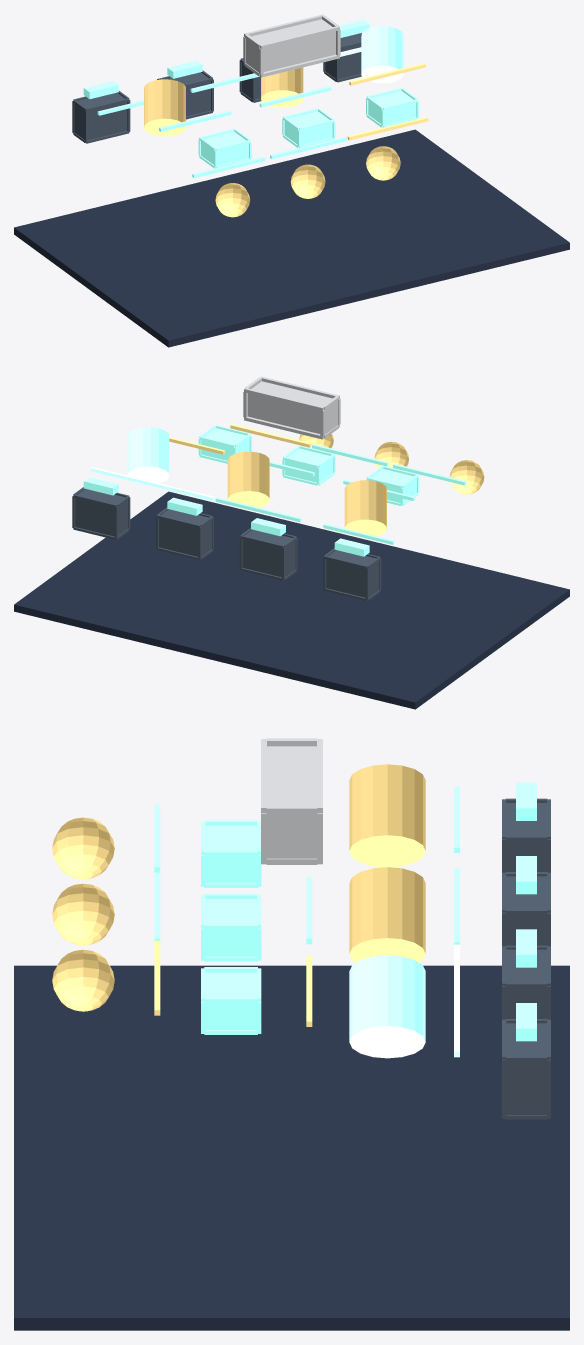
Rendered from rbac-authz-graph.glb.
3 views of the same model, one above another, from view 1: azimuth 30°, elevation 25°; view 2: azimuth 150°, elevation 25°; view 3: azimuth 270°, elevation 25° (orthographic). The views are drawn at different scales.
Parts seen in each view (by area): view 1: rbac-floor, kube-apiserver, api-pods, role-0, role-2, rolebinding-2, rolebinding-0, rolebinding-1, role-1, api-secrets, api-nodes, user-1 (+6 smaller); view 2: rbac-floor, kube-apiserver, api-pods, api-nodes, api-secrets, api-deployments, role-1, role-0, role-2, rolebinding-1, rolebinding-2, rolebinding-0 (+9 smaller); view 3: rbac-floor, kube-apiserver, role-0, role-2, role-1, api-nodes, rolebinding-1, rolebinding-2, rolebinding-0, user-2, user-0, user-1 (+7 smaller).
Boxes of the visible parts, bbox=[...] form: rbac-floor: bbox=[14, 129, 569, 347]; kube-apiserver: bbox=[243, 14, 340, 77]; api-pods: bbox=[72, 91, 130, 143]; role-0: bbox=[144, 79, 185, 136]; role-2: bbox=[361, 26, 403, 83]; rolebinding-2: bbox=[366, 88, 419, 127]; rolebinding-0: bbox=[198, 128, 251, 168]; rolebinding-1: bbox=[282, 108, 335, 147]; role-1: bbox=[261, 67, 303, 107]; api-secrets: bbox=[157, 70, 213, 119]; api-nodes: bbox=[323, 33, 361, 82]; user-1: bbox=[290, 164, 325, 198]; rbac-floor: bbox=[14, 491, 569, 709]; kube-apiserver: bbox=[243, 376, 340, 439]; api-pods: bbox=[323, 548, 381, 600]; api-nodes: bbox=[72, 487, 130, 539]; api-secrets: bbox=[239, 528, 297, 580]; api-deployments: bbox=[156, 507, 213, 560]; role-1: bbox=[227, 451, 269, 508]; role-0: bbox=[344, 480, 386, 536]; role-2: bbox=[127, 427, 169, 483]; rolebinding-1: bbox=[282, 445, 335, 485]; rolebinding-2: bbox=[198, 425, 251, 463]; rolebinding-0: bbox=[366, 466, 419, 505]; rbac-floor: bbox=[14, 965, 569, 1330]; kube-apiserver: bbox=[261, 738, 322, 864]; role-0: bbox=[349, 764, 425, 867]; role-2: bbox=[349, 955, 425, 1058]; role-1: bbox=[349, 867, 425, 962]; api-nodes: bbox=[502, 1019, 550, 1119]; rolebinding-1: bbox=[201, 893, 261, 961]; rolebinding-2: bbox=[201, 967, 261, 1034]; rolebinding-0: bbox=[201, 820, 261, 887]; user-2: bbox=[52, 949, 114, 1011]; user-0: bbox=[52, 817, 114, 879]; user-1: bbox=[52, 883, 114, 945].
Size of what is drawn, in the model's own units: 4.8 by 2.42 by 3.2.
